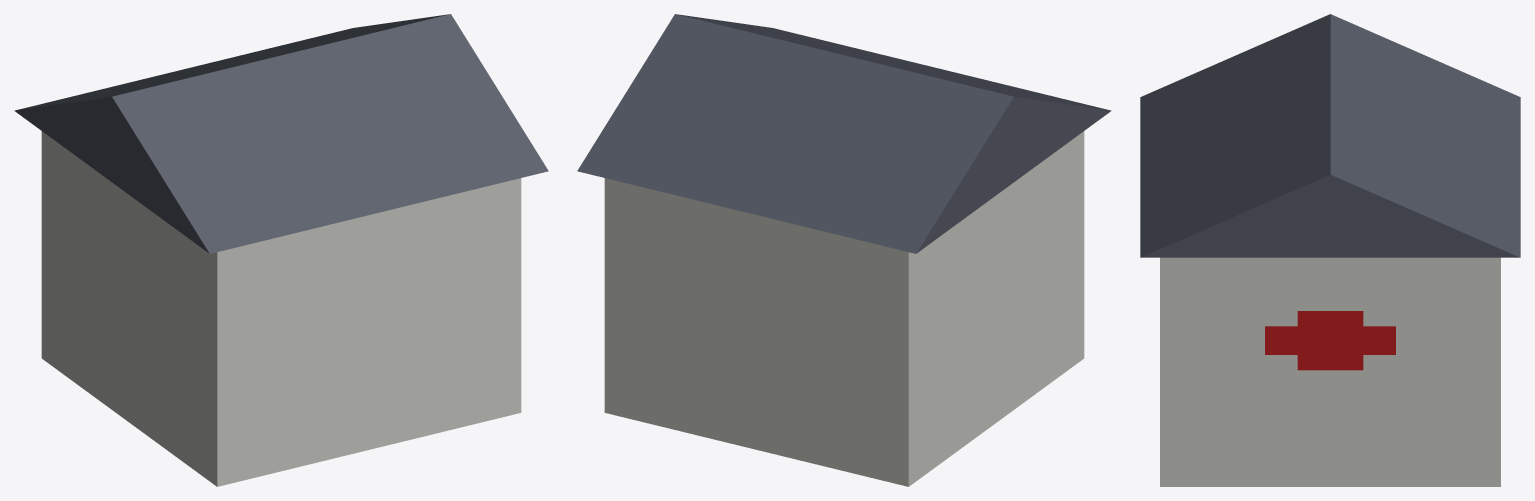
File: first_aid.obj
3 views of the same model, side by side, from view 1: azimuth 30°, elevation 25°; view 2: azimuth 150°, elevation 25°; view 3: azimuth 270°, elevation 25° (orthographic). The views are drawn at different scales.
Bounding box in the file's own units: 2.9 × 2.7 × 2.9.
